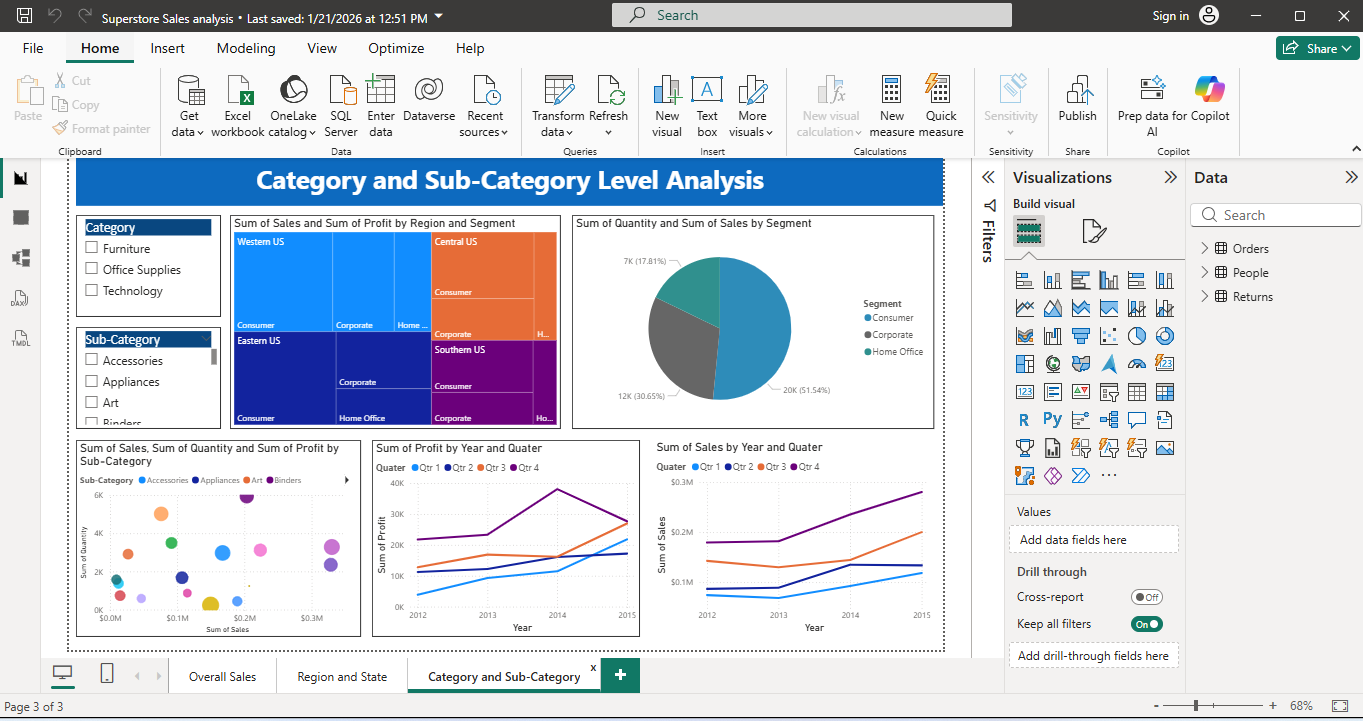

What the dashboard file says about the page in this screenshot:
{"tool":"powerbi","page":{"name":"Category and Sub-Category","canvas":[1280,720],"ordinal":2},"visuals":[{"type":"textbox","box":[9.8,0,1270.2,70],"z":0},{"type":"slicer","fields":{"Values":["Orders.Category"]},"box":[10.2,83.4,212.2,149.3],"z":1000},{"type":"slicer","fields":{"Values":["Orders.Sub-Category"]},"box":[10.2,247.3,212.2,149.3],"z":2000},{"type":"treemap","fields":{"Group":["Orders.Region"],"Details":["Orders.Segment"],"Values":["Sum(Orders.Sales)"]},"box":[235.6,83.4,484.4,313.2],"z":3000},{"type":"pieChart","fields":{"Category":["Orders.Segment"],"Y":["Sum(Orders.Quantity)"]},"box":[736.1,83.4,529.8,313.2],"z":4000},{"type":"scatterChart","fields":{"Series":["Orders.Sub-Category"],"X":["Sum(Orders.Sales)"],"Y":["Sum(Orders.Quantity)"],"Size":["Sum(Orders.Profit)"]},"box":[10.2,412.7,417.1,288.3],"z":5000},{"type":"lineChart","fields":{"Category":["Orders.Year"],"Series":["Orders.Quater"],"Y":["Sum(Orders.Profit)"]},"box":[443.4,412.7,392.2,288.3],"z":6000},{"type":"lineChart","fields":{"Category":["Orders.Year"],"Series":["Orders.Quater"],"Y":["Sum(Orders.Sales)"]},"box":[854.6,412.7,411.2,288.3],"z":7000}]}

Visuals, with their boxes on the page's 1280x720 design canvas (x1, y1, x2, y2). These are canvas units, not pixel positions in the 1363x721 screenshot, which may show the page scaled, cropped or inside an application window:
textbox: {"left": 10, "top": 0, "right": 1280, "bottom": 70}
slicer - Orders.Category: {"left": 10, "top": 83, "right": 222, "bottom": 233}
slicer - Orders.Sub-Category: {"left": 10, "top": 247, "right": 222, "bottom": 397}
treemap - Orders.Region x Orders.Segment: {"left": 236, "top": 83, "right": 720, "bottom": 397}
pieChart - Orders.Segment x Sum(Orders.Quantity): {"left": 736, "top": 83, "right": 1266, "bottom": 397}
scatterChart - Orders.Sub-Category x Sum(Orders.Sales): {"left": 10, "top": 413, "right": 427, "bottom": 701}
lineChart - Orders.Year x Orders.Quater: {"left": 443, "top": 413, "right": 836, "bottom": 701}
lineChart - Orders.Year x Orders.Quater: {"left": 855, "top": 413, "right": 1266, "bottom": 701}
